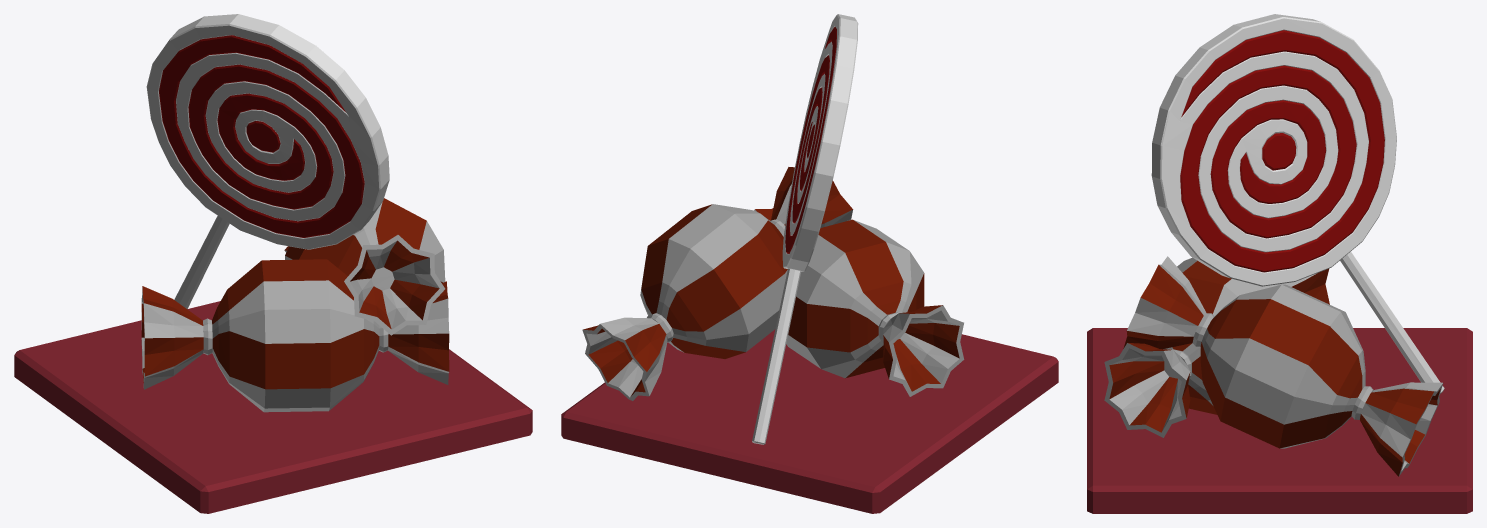
The model's file is W_O_Playground_CandySymbolic_001_L0.fbx.
The picture shows the model from 3 angles, left to right: view 1: azimuth 30°, elevation 25°; view 2: azimuth 150°, elevation 25°; view 3: azimuth 270°, elevation 25°; orthographic projection. The views are drawn at different scales.
Visible parts, largest first — view 1: W_O_Playground_CandySymbolic_001_L0; view 2: W_O_Playground_CandySymbolic_001_L0; view 3: W_O_Playground_CandySymbolic_001_L0.
Boxes of the visible parts, left/top/right/bottom form: W_O_Playground_CandySymbolic_001_L0: left=14, top=14, right=532, bottom=513; W_O_Playground_CandySymbolic_001_L0: left=561, top=14, right=1058, bottom=513; W_O_Playground_CandySymbolic_001_L0: left=1087, top=14, right=1472, bottom=513.
Size of the model in its own units: 2.04 by 2.29 by 2.
